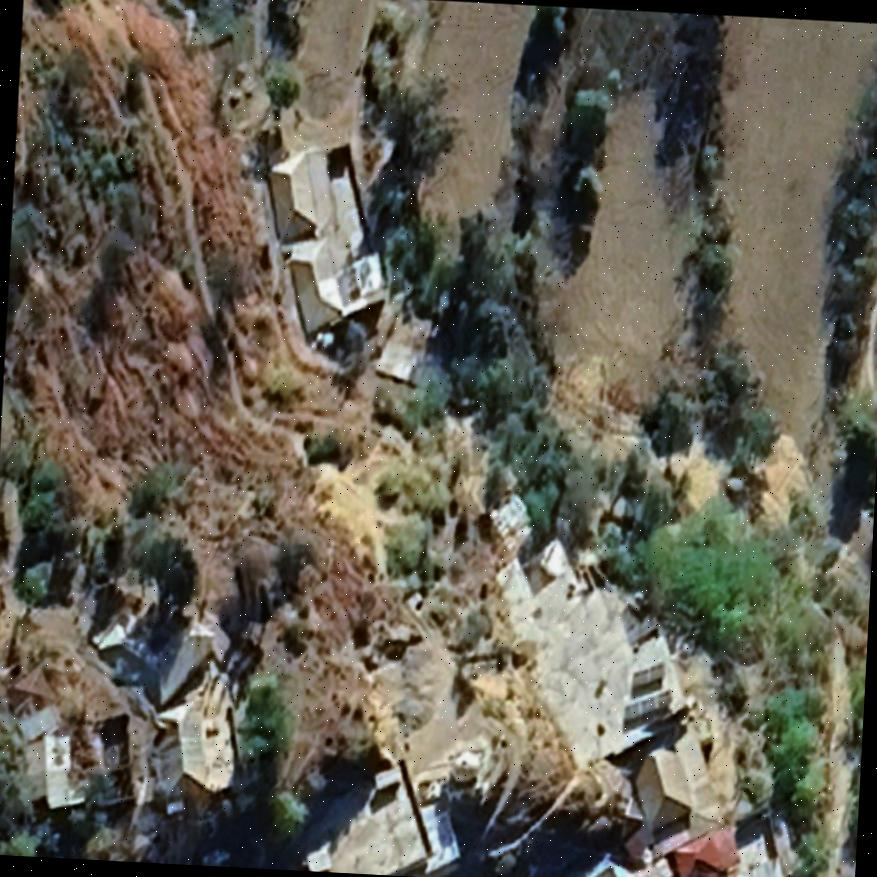Solarpanel: (621, 685, 673, 724), (625, 662, 669, 690)
